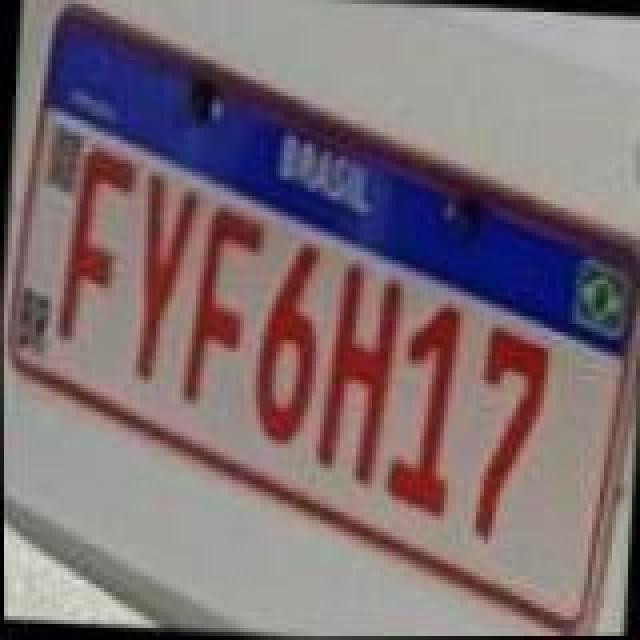1: (378, 304, 462, 520)
6: (246, 236, 326, 448)
7: (470, 324, 554, 544)
F: (178, 202, 266, 406), (54, 144, 138, 344)
H: (310, 260, 406, 488)
Y: (130, 172, 202, 384)
